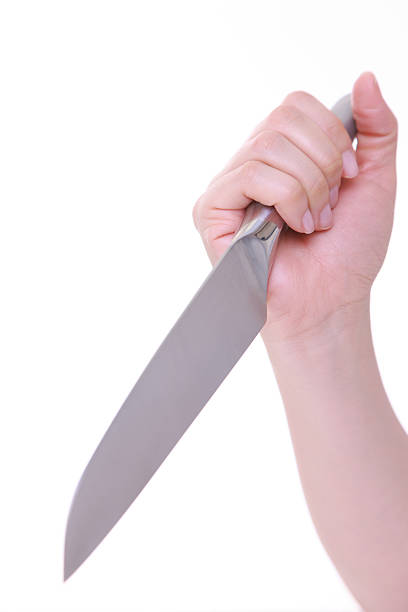knife: (62, 93, 360, 582)
